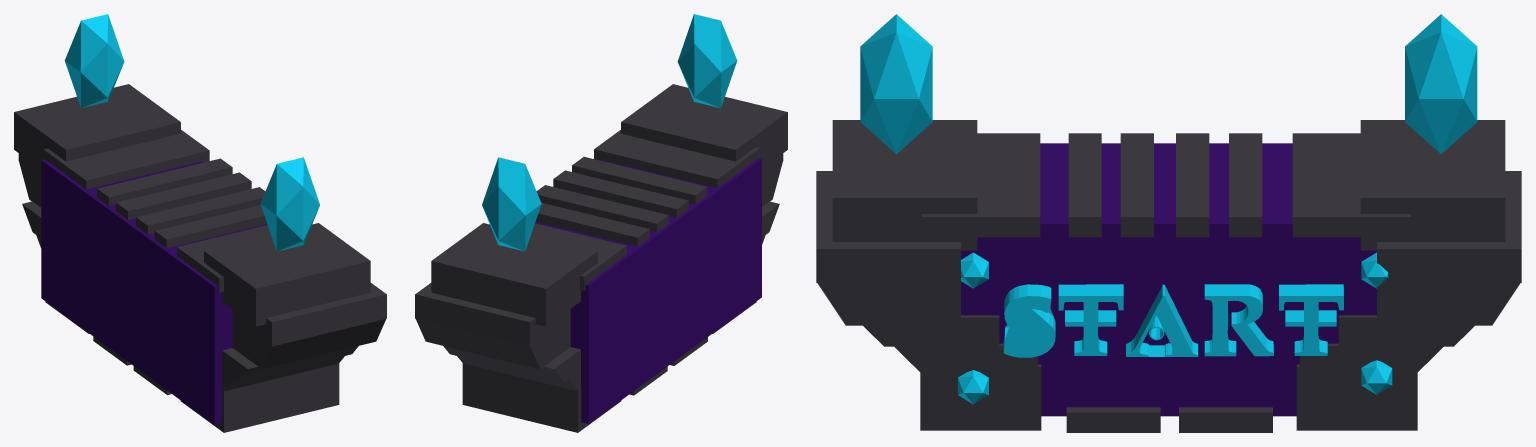
Rendered from Start_Button.fbx.
3 renders of one model, left to right at view 1: azimuth 30°, elevation 25°; view 2: azimuth 150°, elevation 25°; view 3: azimuth 270°, elevation 25°, orthographic. The views are drawn at different scales.
Visible parts, largest first — view 1: Cube, Cube_7, Cube_15, Cube_14, Cube_2, Cube_8, Platonic_1, Platonic, Cube_9, Cube_5, Cube_6, Cube_4 (+6 smaller); view 2: Cube, Cube_15, Cube_7, Cube_20, Cube_1, Cube_16, Platonic, Platonic_1, Cube_17, Cube_4, Cube_3, Cube_5 (+6 smaller); view 3: Cube, Cube_15, Cube_7, Cap_1, Cube_2, Cube_1, Platonic, Platonic_1, Cube_8, Cube_20, Cube_14, Cube_16 (+16 smaller).
Part boxes in pixels (x1=…): Cube: x1=41, y1=159, x2=267, y2=424; Cube_7: x1=204, y1=223, x2=370, y2=326; Cube_15: x1=14, y1=84, x2=180, y2=169; Cube_14: x1=180, y1=363, x2=339, y2=432; Cube_2: x1=43, y1=130, x2=209, y2=189; Cube_8: x1=232, y1=283, x2=386, y2=346; Platonic_1: x1=64, y1=14, x2=124, y2=108; Platonic: x1=260, y1=157, x2=319, y2=251; Cube_9: x1=232, y1=317, x2=385, y2=369; Cube_5: x1=116, y1=172, x2=251, y2=219; Cube_6: x1=97, y1=158, x2=232, y2=206; Cube_4: x1=136, y1=187, x2=265, y2=234; Cube: x1=535, y1=158, x2=761, y2=423; Cube_15: x1=431, y1=223, x2=597, y2=326; Cube_7: x1=621, y1=84, x2=787, y2=168; Cube_20: x1=462, y1=363, x2=621, y2=432; Cube_1: x1=594, y1=130, x2=760, y2=187; Cube_16: x1=415, y1=283, x2=570, y2=346; Platonic: x1=677, y1=14, x2=737, y2=108; Platonic_1: x1=482, y1=157, x2=541, y2=251; Cube_17: x1=416, y1=316, x2=570, y2=369; Cube_4: x1=553, y1=170, x2=688, y2=217; Cube_3: x1=572, y1=156, x2=707, y2=204; Cube_5: x1=536, y1=185, x2=668, y2=232; Cube: x1=961, y1=143, x2=1376, y2=416; Cube_15: x1=1360, y1=120, x2=1505, y2=250; Cube_7: x1=832, y1=120, x2=977, y2=250; Cap_1: x1=1003, y1=296, x2=1343, y2=357; Cube_2: x1=1292, y1=133, x2=1410, y2=237; Cube_1: x1=921, y1=133, x2=1040, y2=237; Platonic: x1=860, y1=14, x2=932, y2=154; Platonic_1: x1=1405, y1=14, x2=1477, y2=154; Cube_8: x1=816, y1=171, x2=960, y2=282; Cube_20: x1=1296, y1=364, x2=1417, y2=430; Cube_14: x1=920, y1=364, x2=1041, y2=430; Cube_16: x1=1377, y1=171, x2=1521, y2=282.
Bounding box in the file's own units: 160 × 295 × 512.
